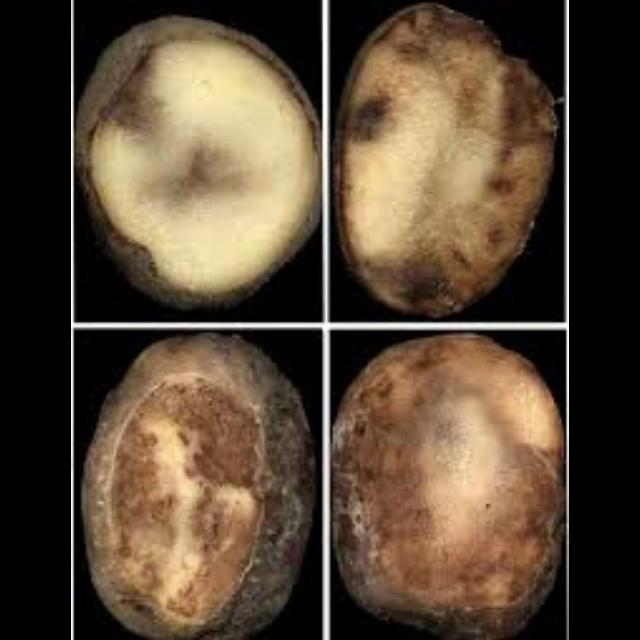Diseased-fungal potato: (76, 10, 324, 316), (79, 330, 319, 640), (328, 3, 560, 320), (331, 332, 565, 638)
